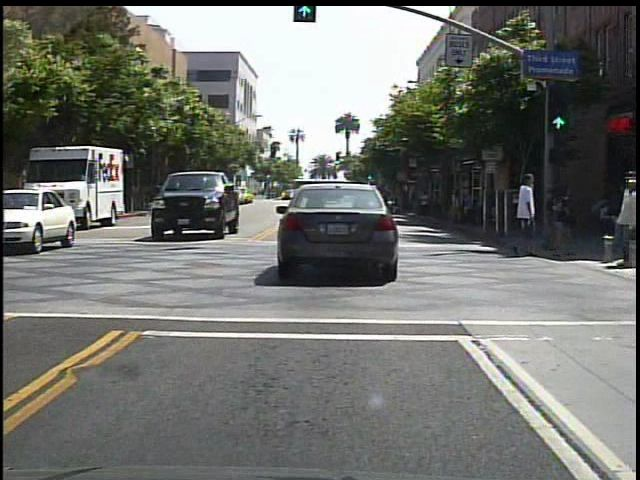person: (508, 160, 546, 258), (612, 167, 638, 247), (416, 187, 434, 219), (552, 174, 554, 256)
